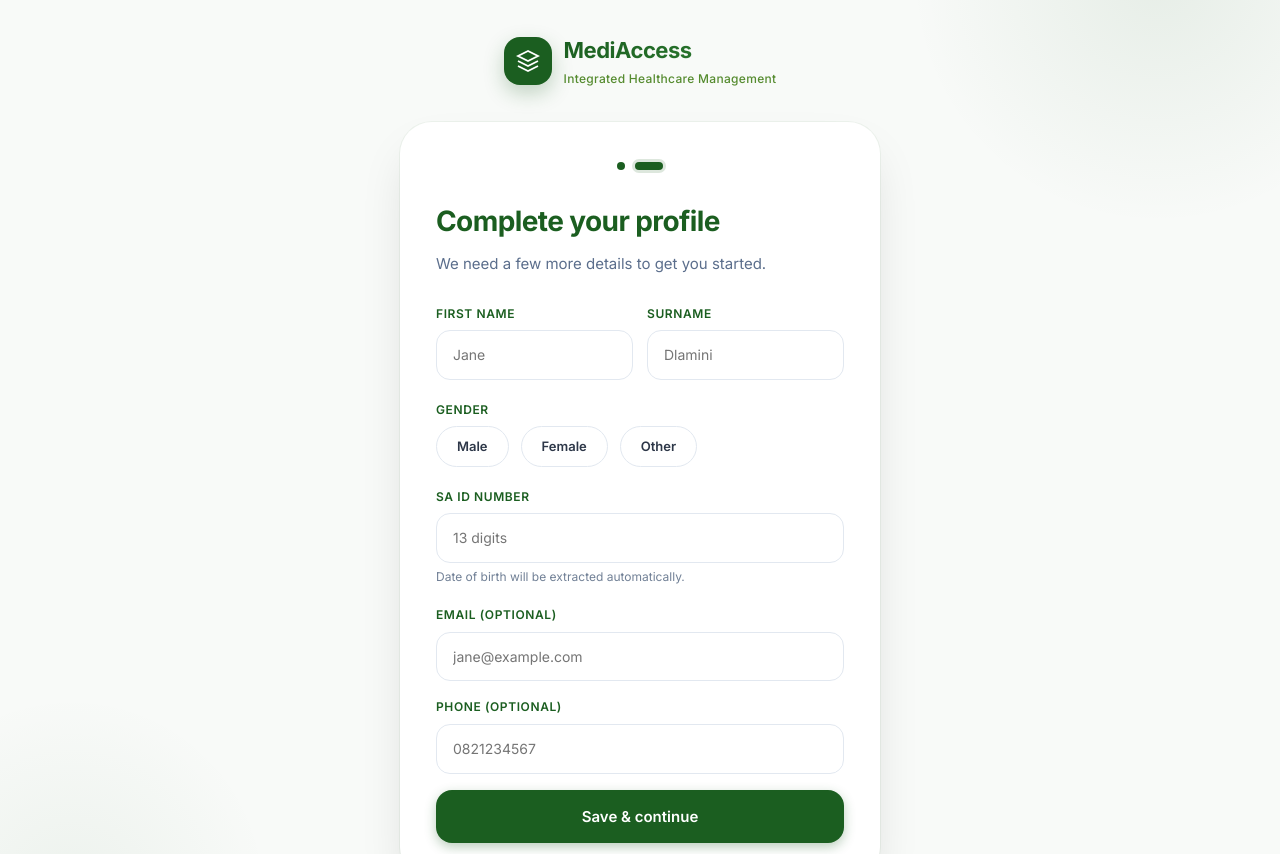
Test: ProfileStep - ID number validation › shows error when ID has invalid date of birth
In the field with placeholder "Jane": (534, 355) [436,330,633,380], type "Alice"
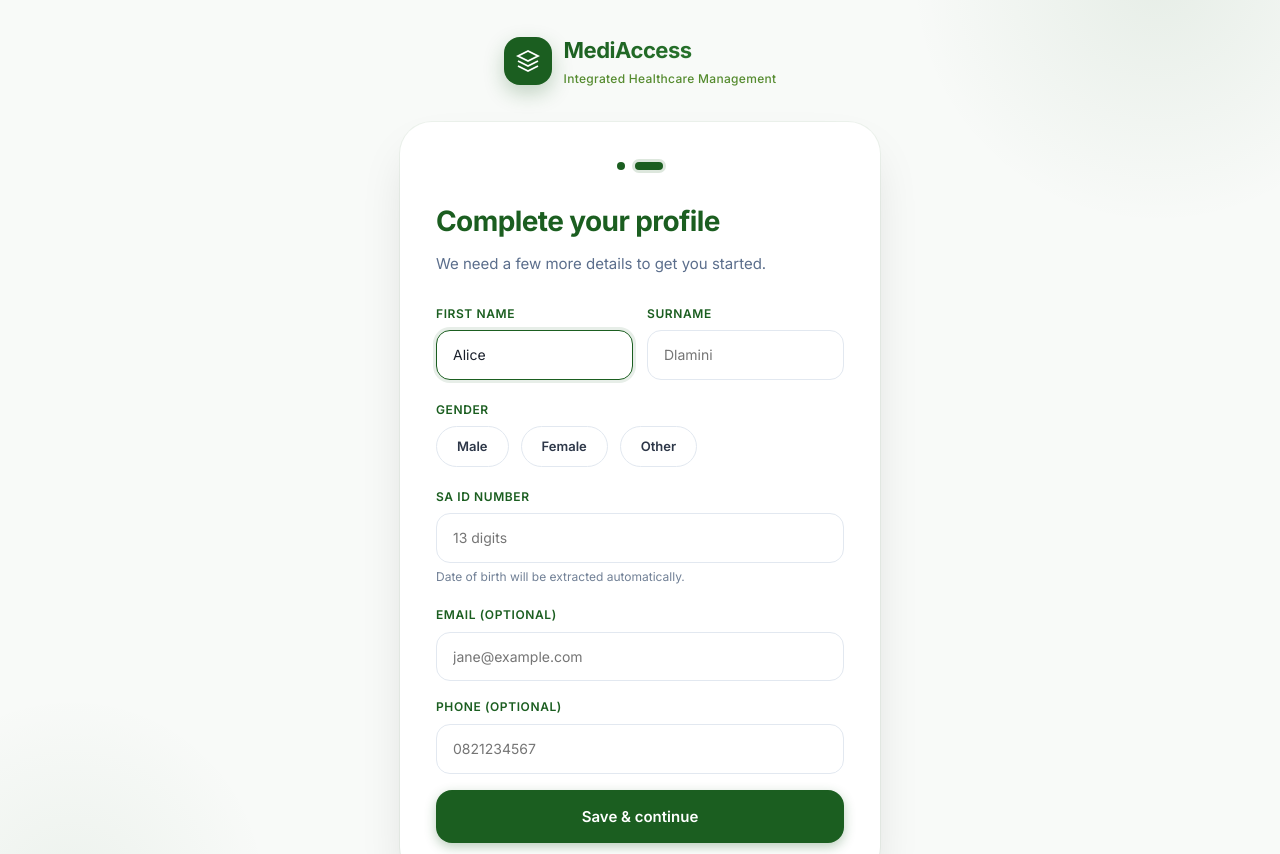
In the field with placeholder "Dlamini": (746, 355) [647,330,844,380], type "Nkosi"
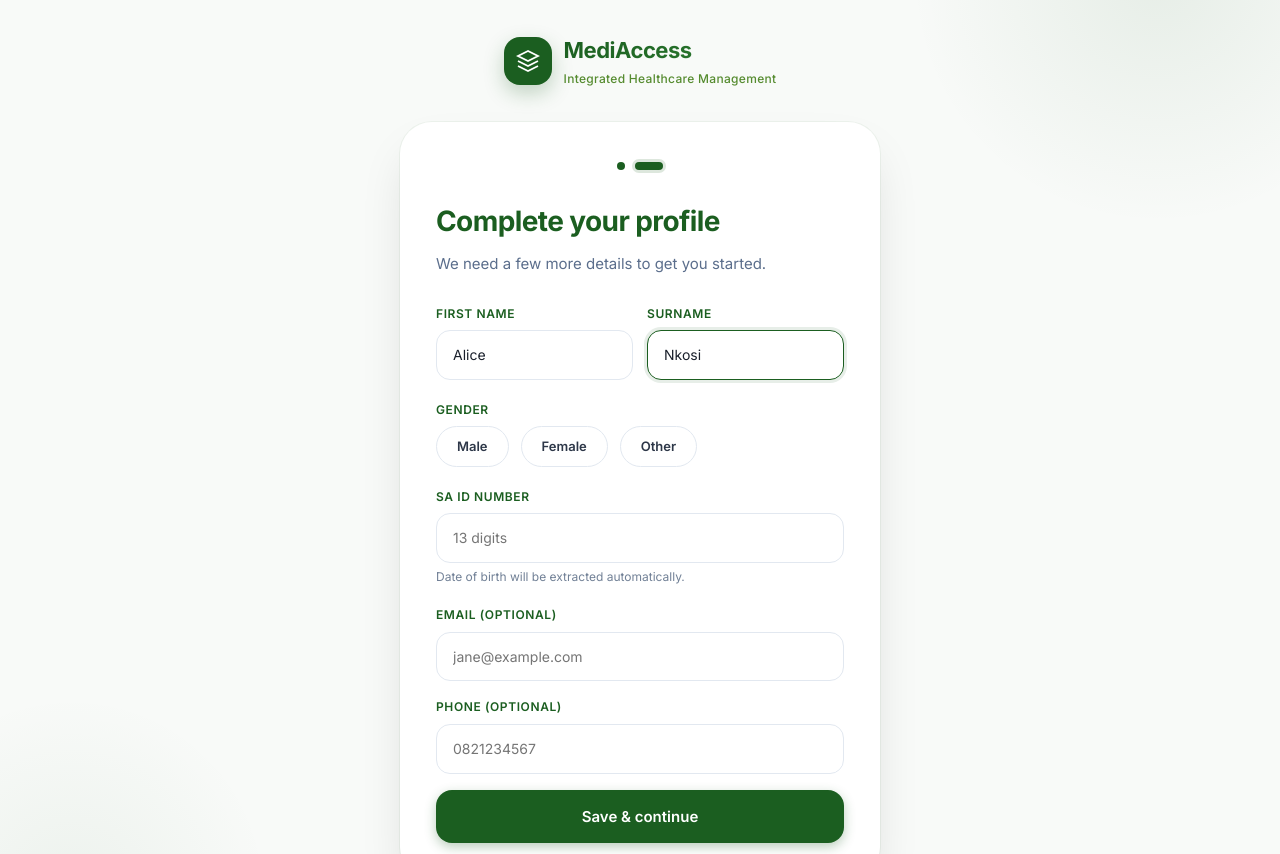
Click the button "Female": click(564, 447) [520,426,608,467]
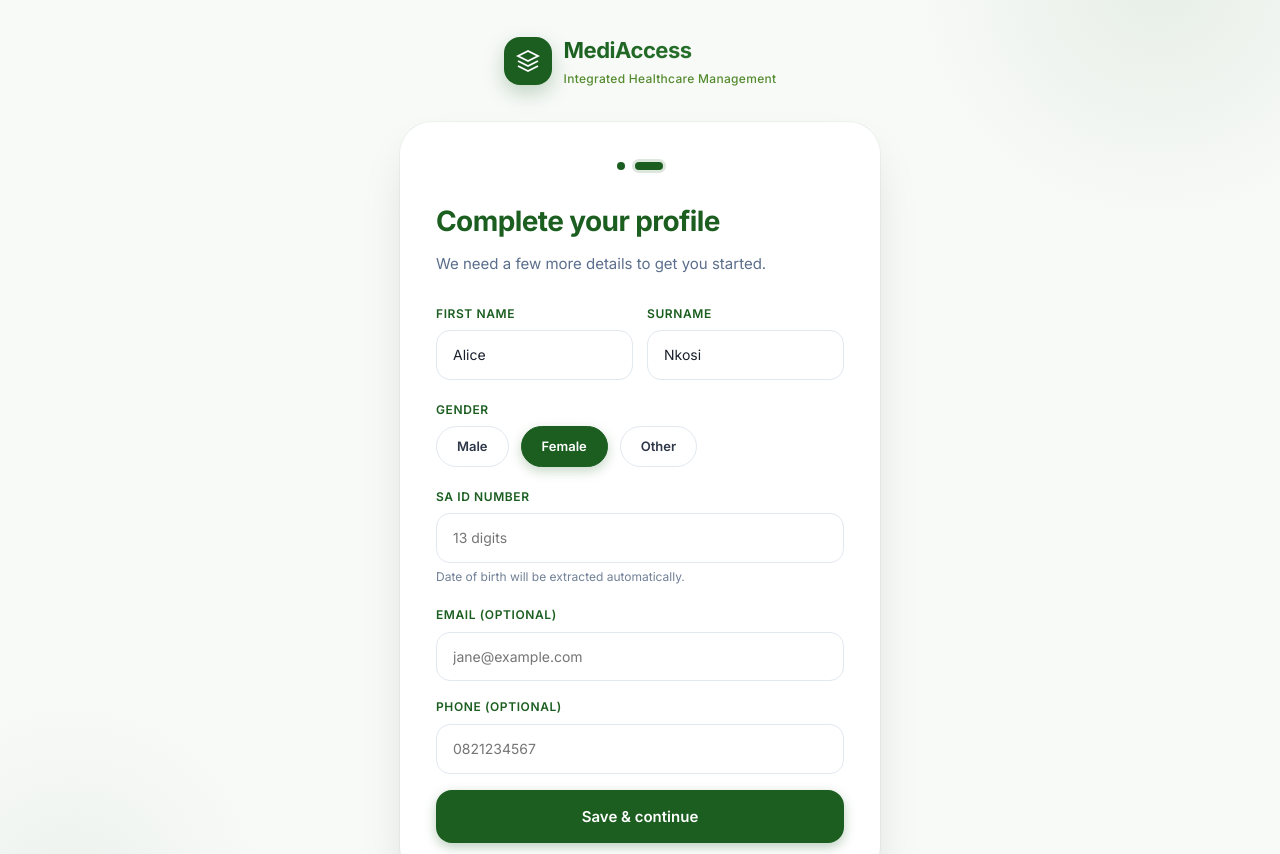
In the field with placeholder "13 digits": (640, 538) [436,513,844,563], type "9099995009087"
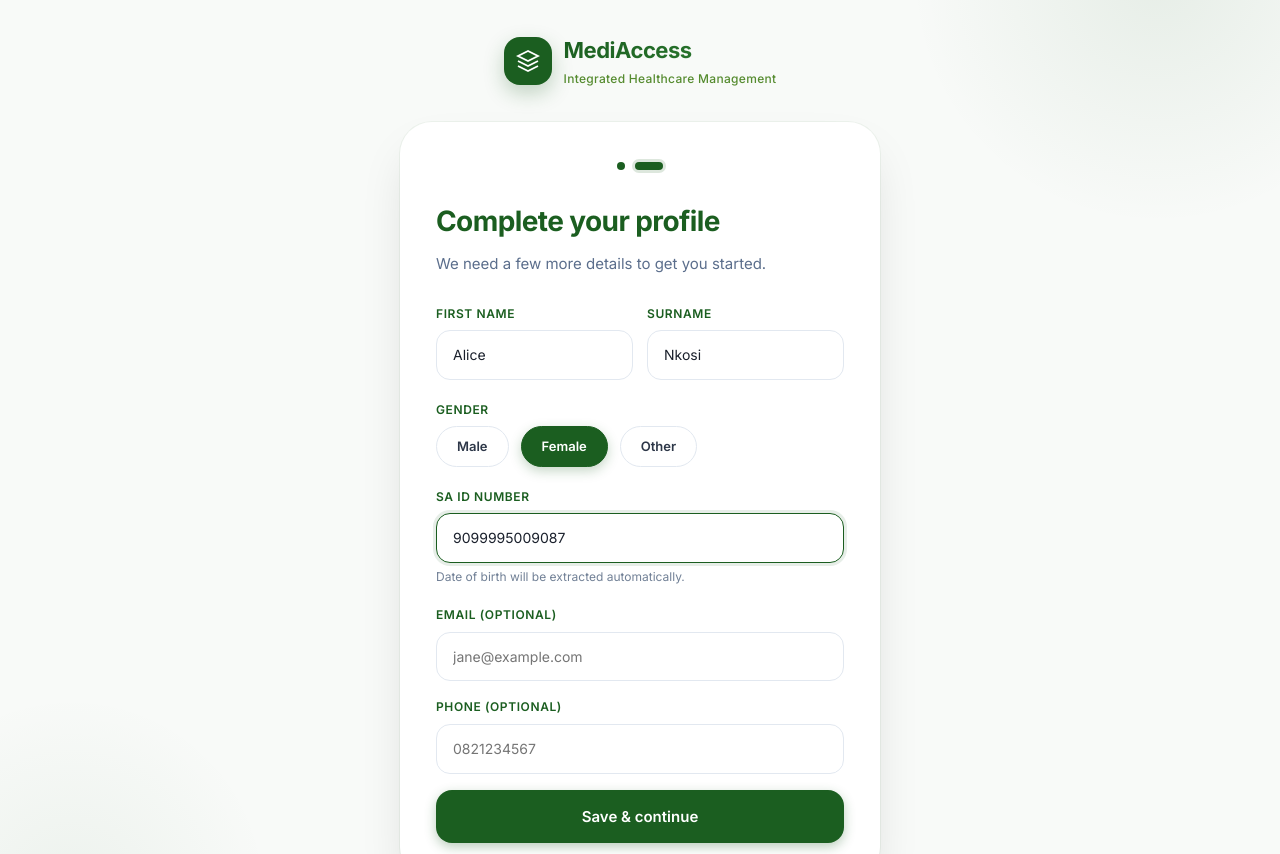
Click the button "Save & continue": click(640, 816) [436,790,844,843]
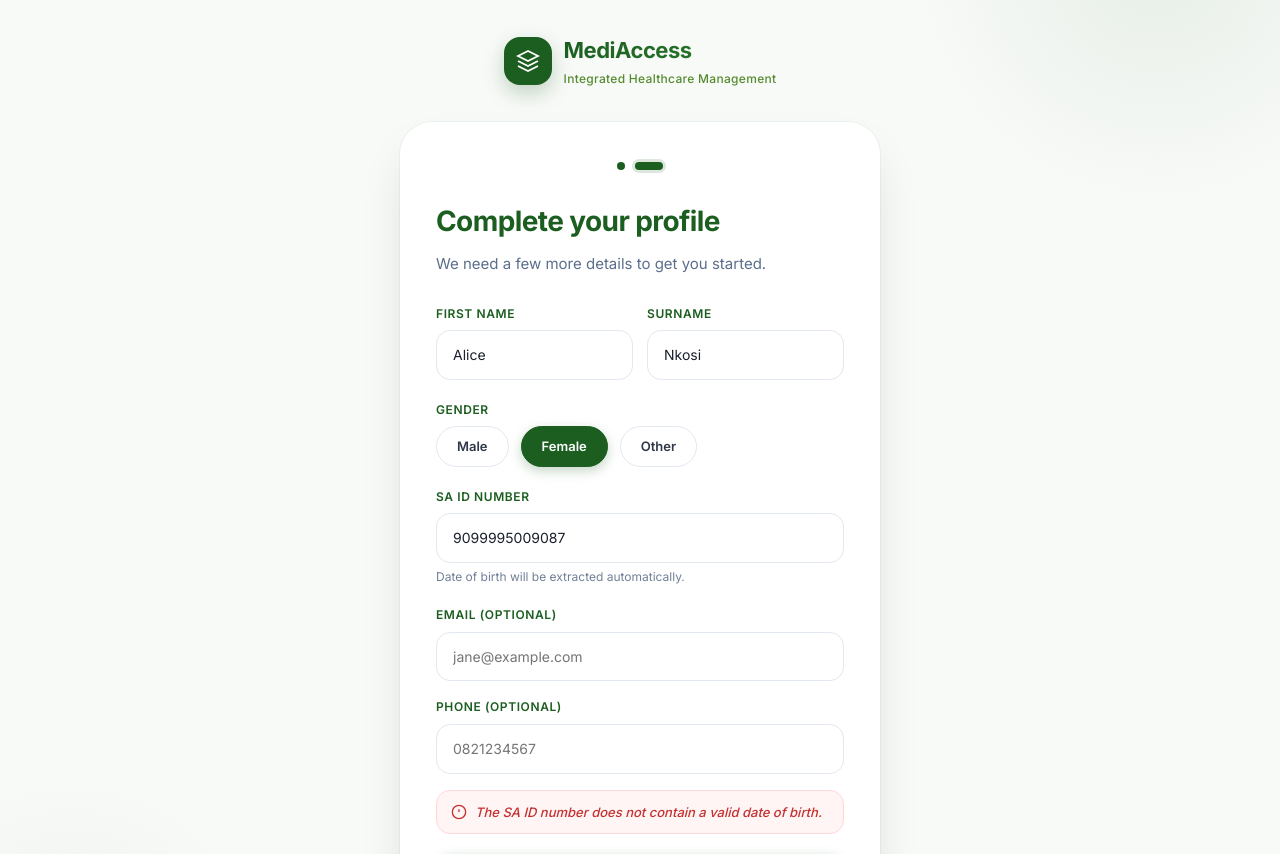
Result: the text "The SA ID number does not contain a valid date of birth." is shown at [475,800,822,823]
